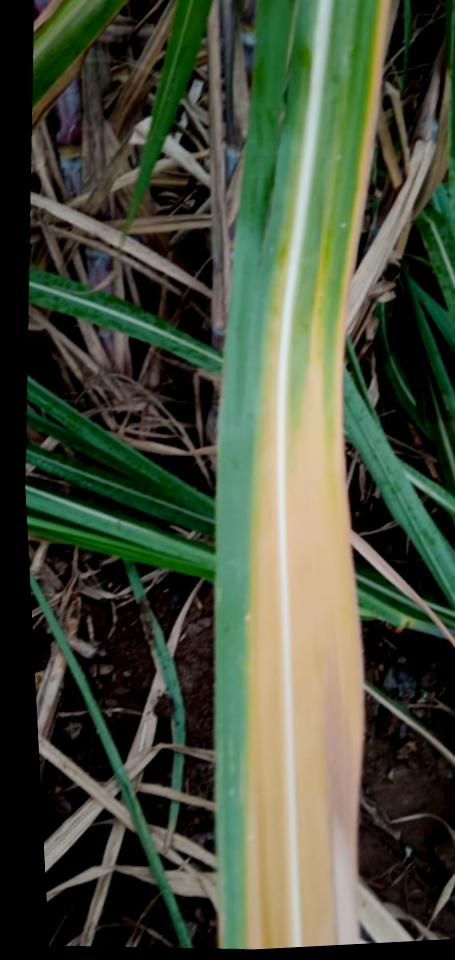Yellow: (285, 0, 391, 947), (246, 319, 292, 948)
